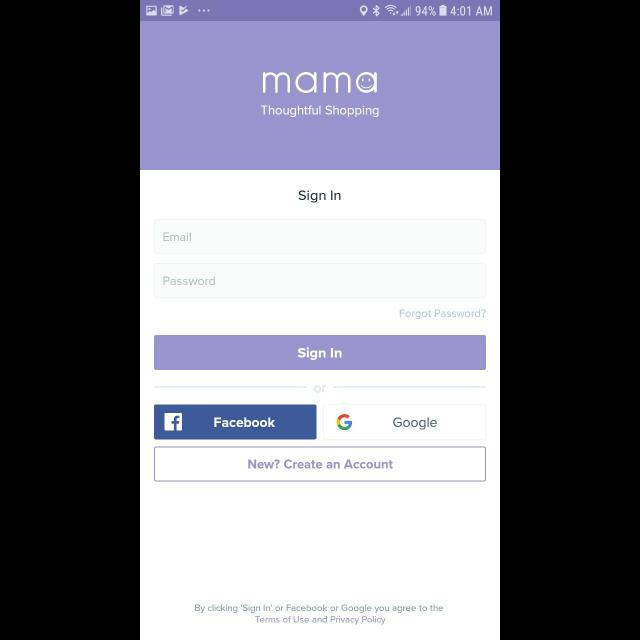image: (262, 72, 378, 94)
input: (154, 264, 486, 298), (154, 220, 486, 254)
text: (195, 604, 443, 624), (261, 106, 379, 118), (400, 309, 486, 319), (164, 276, 216, 286), (299, 191, 341, 203), (164, 232, 192, 242), (314, 385, 326, 393)
textbutton: (154, 446, 486, 482), (154, 336, 486, 370), (154, 404, 318, 440), (324, 404, 486, 440)
uppertaskbar: (140, 1, 500, 22)
